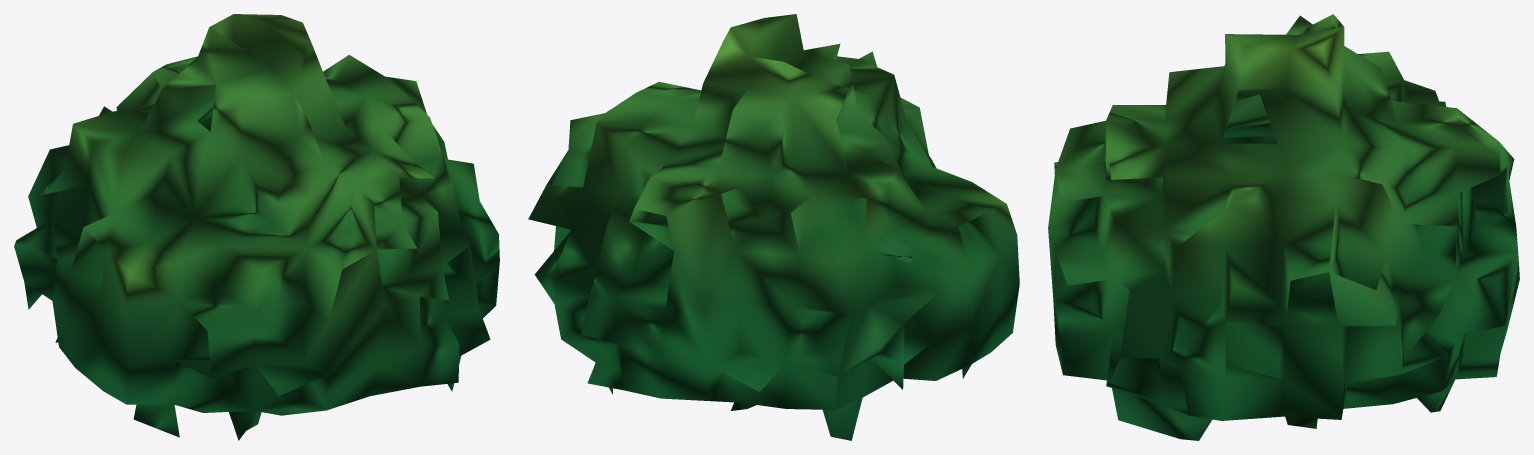
File: busch.glb
3 renders of one model, left to right at view 1: azimuth 30°, elevation 25°; view 2: azimuth 150°, elevation 25°; view 3: azimuth 270°, elevation 25°, orthographic. The views are drawn at different scales.
Bounding box in the file's own units: 1.63 × 1.49 × 1.65.
